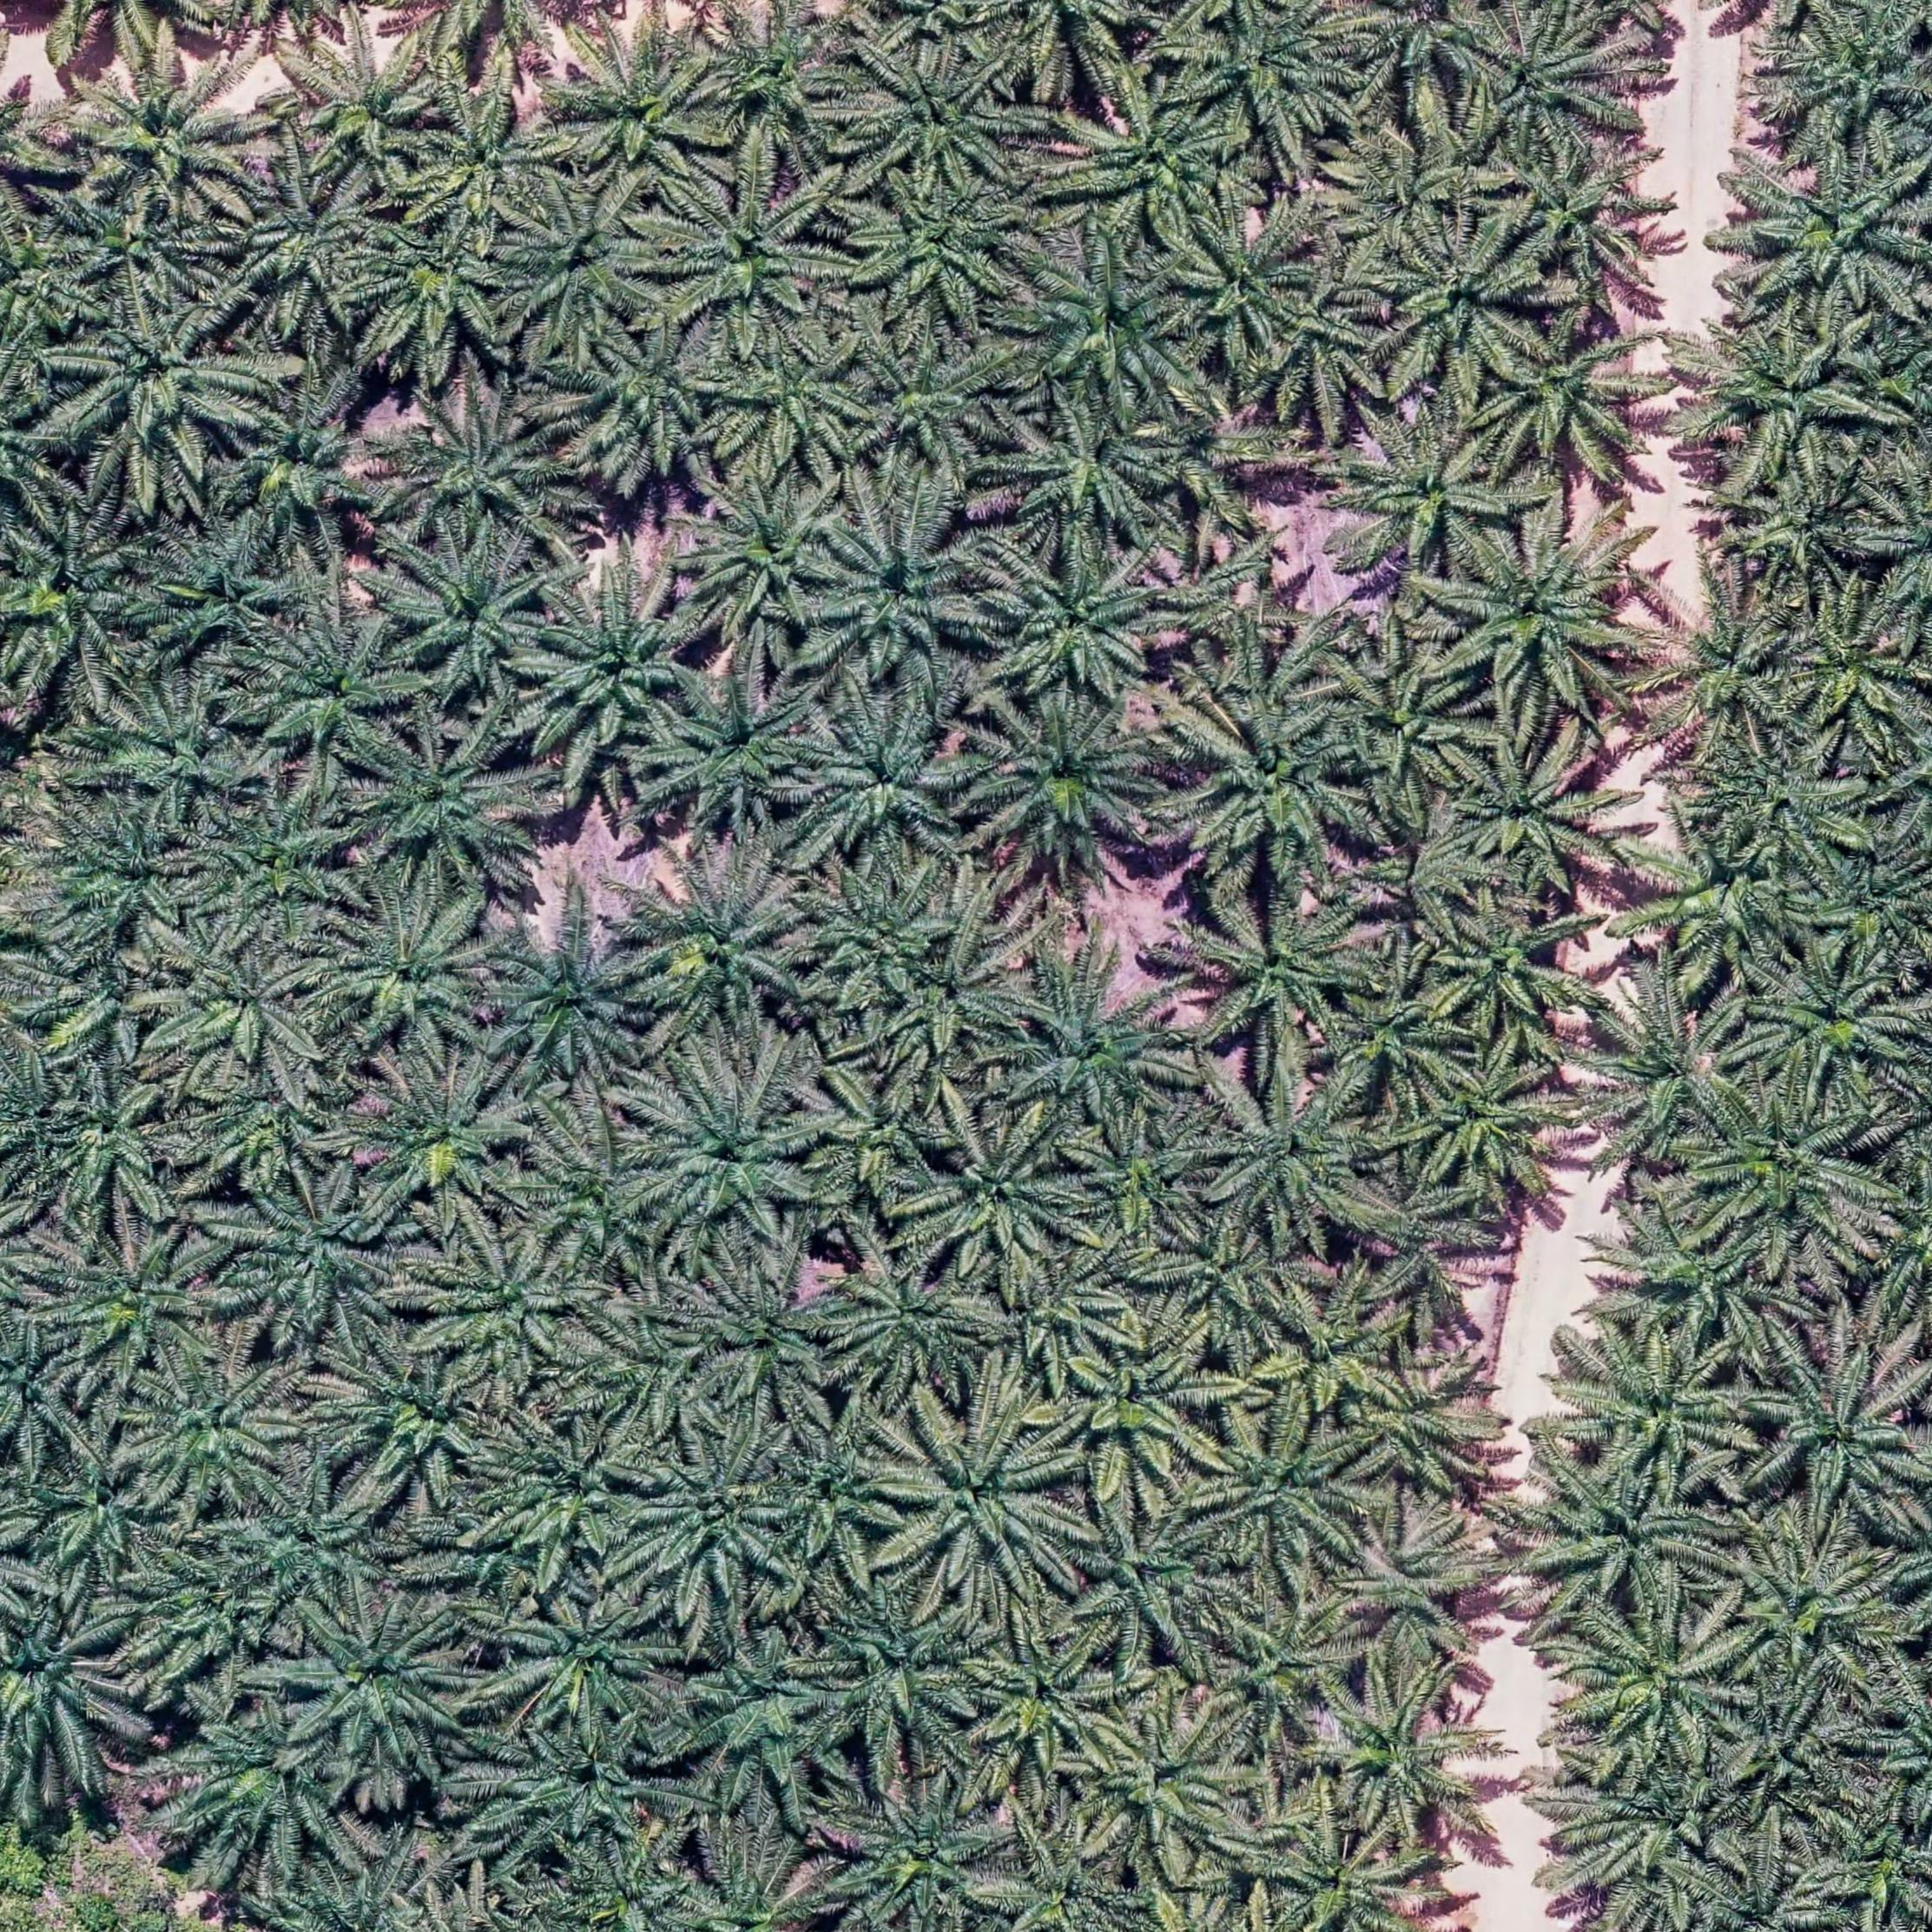palmtree: (1435, 517, 1645, 722), (1171, 685, 1384, 883), (1509, 1440, 1736, 1626), (883, 1399, 1088, 1601), (966, 692, 1169, 878), (60, 46, 265, 230), (57, 288, 260, 472), (1005, 239, 1207, 421), (1564, 1743, 1764, 1923), (809, 495, 996, 686), (1737, 1332, 1927, 1520), (1690, 1085, 1888, 1261), (1196, 1067, 1389, 1247), (1000, 959, 1192, 1138), (635, 856, 823, 1039), (980, 540, 1177, 713), (1681, 310, 1879, 481), (807, 1580, 991, 1764), (644, 1063, 828, 1246), (1743, 145, 1928, 326), (1311, 1674, 1504, 1847), (1058, 71, 1246, 248), (219, 368, 400, 550), (662, 161, 846, 340), (382, 387, 577, 554), (533, 575, 711, 754), (1444, 731, 1624, 908), (1718, 1525, 1902, 1698), (283, 1601, 469, 1773), (1562, 1323, 1752, 1490), (380, 536, 563, 708), (1187, 885, 1375, 1051), (352, 727, 540, 893), (672, 1638, 853, 1810), (1560, 1605, 1746, 1771), (1585, 987, 1760, 1162), (681, 471, 858, 644), (179, 1704, 359, 1874), (1398, 1037, 1582, 1203), (0, 492, 157, 685), (490, 188, 669, 357), (1196, 1410, 1376, 1578), (322, 886, 502, 1054), (561, 317, 736, 488), (481, 913, 658, 1083), (794, 695, 973, 863), (1628, 817, 1806, 985), (648, 669, 828, 835), (483, 1718, 685, 1867), (1488, 317, 1661, 487), (1635, 580, 1812, 747), (554, 30, 732, 195), (232, 1175, 410, 1338), (1000, 400, 1191, 552), (851, 172, 1039, 326), (1164, 205, 1334, 373), (1058, 1323, 1228, 1491), (1086, 1704, 1258, 1870), (1067, 1499, 1238, 1665), (1315, 640, 1486, 807), (911, 1116, 1088, 1277), (1330, 423, 1511, 580), (1187, 0, 1371, 154), (225, 156, 395, 322), (188, 784, 359, 948), (352, 214, 525, 377), (50, 1224, 226, 1384), (479, 1412, 656, 1571), (356, 1063, 536, 1219), (1614, 1201, 1794, 1357), (839, 1771, 1019, 1927), (1334, 1507, 1500, 1674), (630, 1437, 800, 1599), (1495, 138, 1665, 301), (249, 610, 423, 770), (1141, 538, 1320, 688), (278, 30, 448, 188), (39, 796, 209, 954), (851, 42, 1031, 189), (1205, 1592, 1366, 1757), (685, 1263, 853, 1421), (1697, 734, 1870, 886), (1371, 223, 1525, 393), (409, 85, 582, 235), (1746, 950, 1914, 1104), (329, 1345, 501, 1495), (968, 1622, 1129, 1782), (133, 1355, 303, 1506), (426, 1228, 596, 1378), (97, 676, 267, 826), (1430, 893, 1596, 1046), (824, 1246, 993, 1396), (1322, 120, 1490, 271), (699, 7, 862, 159), (1143, 380, 1292, 547), (11, 932, 191, 1069), (1341, 1352, 1500, 1506), (860, 934, 1035, 1074), (237, 1461, 403, 1608), (853, 334, 1021, 479), (502, 1589, 674, 1730), (1346, 1168, 1495, 1330), (717, 334, 883, 479), (518, 1123, 676, 1276), (971, 1253, 1141, 1392), (0, 1603, 134, 1778), (766, 1415, 920, 1566), (1778, 5, 1932, 156), (1778, 593, 1927, 747), (143, 515, 297, 660), (37, 1072, 193, 1214), (1148, 1214, 1306, 1353), (1069, 1111, 1224, 1251), (193, 1058, 357, 1189), (1732, 456, 1884, 596), (1322, 971, 1470, 1113), (801, 1067, 954, 1205), (161, 945, 324, 1072), (1263, 1281, 1410, 1421), (803, 869, 954, 1005), (50, 186, 211, 310), (25, 1440, 170, 1576), (982, 1813, 1141, 1932), (1509, 9, 1631, 161), (1270, 1819, 1431, 1932), (1366, 809, 1502, 939), (1806, 837, 1932, 975), (1725, 1688, 1868, 1808), (587, 1320, 725, 1440), (140, 1560, 285, 1667), (667, 1847, 846, 1932), (1350, 0, 1500, 101), (269, 1851, 451, 1932), (0, 361, 81, 538), (1813, 1803, 1932, 1923), (557, 1838, 704, 1932), (0, 1325, 83, 1460), (0, 1166, 50, 1334)
